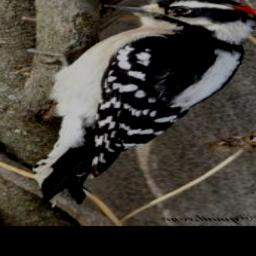Woodpecker: (30, 0, 256, 205)
